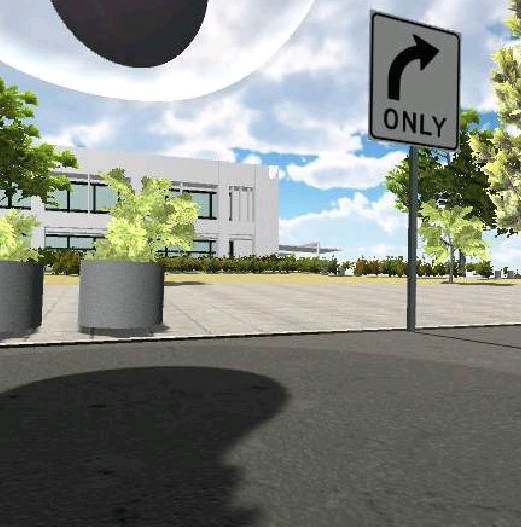arrow_right: (383, 35, 447, 100)
